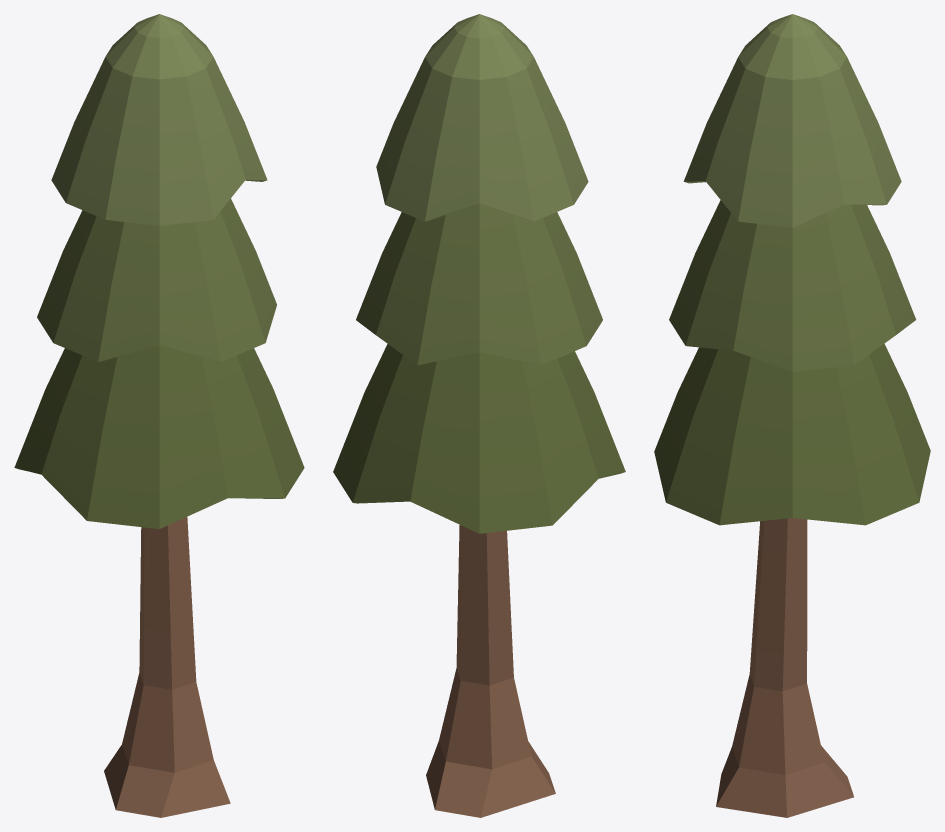
The model's file is fir_tree_15.fbx.
The picture shows the model from 3 angles, left to right: view 1: azimuth 30°, elevation 25°; view 2: azimuth 150°, elevation 25°; view 3: azimuth 270°, elevation 25°; orthographic projection.
Visible parts, largest first — view 1: fir_tree_15; view 2: fir_tree_15; view 3: fir_tree_15.
Part boxes in pixels (x1,y1,x2,y2): fir_tree_15: (14, 14, 304, 817); fir_tree_15: (333, 14, 625, 817); fir_tree_15: (654, 14, 930, 817).
Bounding box in the file's own units: 176 × 540 × 174.
